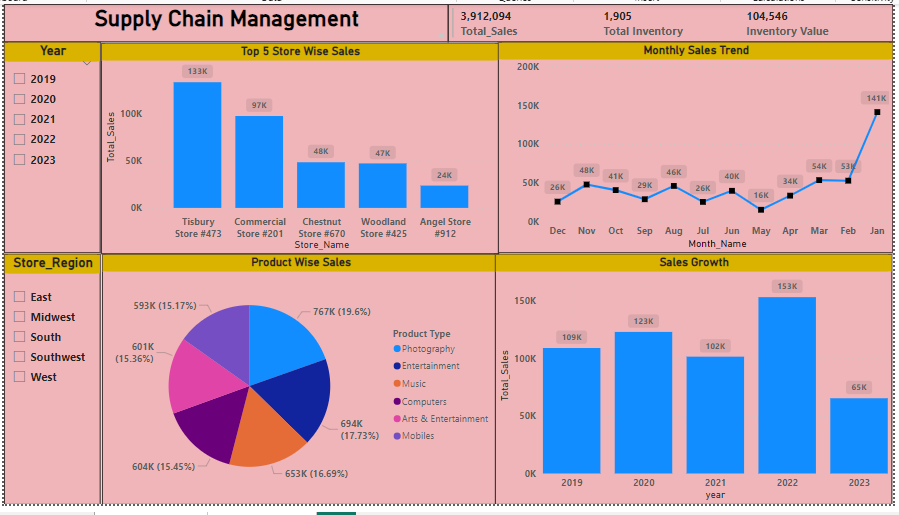

The dashboard page shown, as its layout file describes it:
{"tool":"powerbi","page":{"name":"Dash_Board 1","canvas":[1280,720],"ordinal":0},"visuals":[{"type":"textbox","title":"Supply Chain Management","box":[0,0,639.6,55.1],"z":0},{"type":"pieChart","title":"Product Wise Sales ","fields":{"Category":["F_INVENTORY_ADJUSTED.Product Type"],"Y":["mahendra point_of_salee.Sales_Amount"]},"box":[140.9,359.5,571.6,361.1],"z":1000},{"type":"columnChart","title":"Top 5 Store Wise Sales","fields":{"Y":["Time.Total_Sales"],"Category":["mahendra d_store.Store_Name"]},"box":[139.1,55.7,572.9,304.5],"z":2000},{"type":"multiRowCard","fields":{"Values":["Time.Total_Sales","DateTable.Total Inventory","DateTable.Inventory Value"]},"box":[639.6,0,641.2,55.1],"z":3000},{"type":"clusteredColumnChart","title":"Sales Growth","fields":{"Y":["DateTable.Total_Sales"],"Category":["DateTable.year"]},"box":[707.6,359.5,571.6,361.1],"z":4000},{"type":"lineChart","title":"Monthly Sales Trend","fields":{"Y":["Time.Total_Sales"],"Category":["DateTable.Month_Name"]},"box":[711,55,569,304],"z":5000},{"type":"slicer","title":"Year","fields":{"Values":["DateTable.year"]},"box":[0,55.1,139.3,304.4],"z":6000},{"type":"slicer","title":"Store_Region","fields":{"Values":["mahendra d_store.Store_Region"]},"box":[0,359.5,139.3,361.1],"z":7000}]}

Visuals, with their boxes in screenshot pixels (x1, y1, x2, y2), scaled from the page's 1280x720 canvas onto the 899x515 screenshot:
"Supply Chain Management" textbox: left=0, top=0, right=449, bottom=39
"Product Wise Sales " pieChart: left=99, top=257, right=500, bottom=514
"Top 5 Store Wise Sales" columnChart: left=98, top=40, right=500, bottom=258
multiRowCard - Time.Total_Sales x DateTable.Total Inventory: left=449, top=0, right=898, bottom=39
"Sales Growth" clusteredColumnChart: left=497, top=257, right=898, bottom=514
"Monthly Sales Trend" lineChart: left=499, top=39, right=898, bottom=257
"Year" slicer: left=0, top=39, right=98, bottom=257
"Store_Region" slicer: left=0, top=257, right=98, bottom=514
